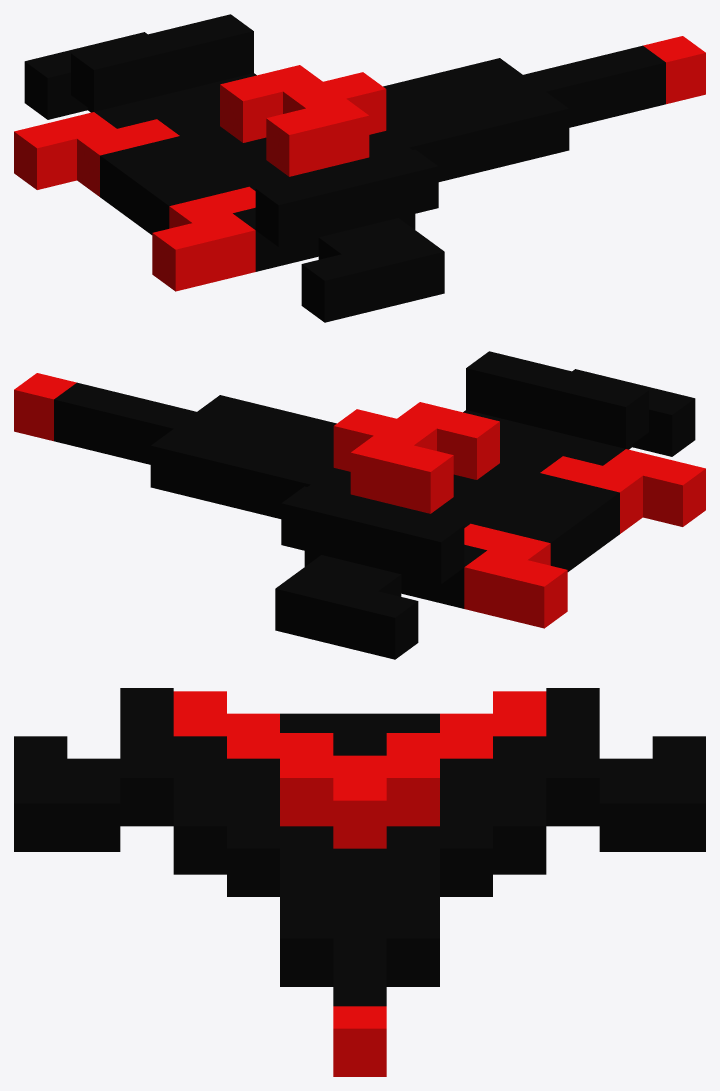
The model's file is Monster1.fbx.
3 views of the same model, one above another, from view 1: azimuth 30°, elevation 25°; view 2: azimuth 150°, elevation 25°; view 3: azimuth 270°, elevation 25° (orthographic). The views are drawn at different scales.
Visible parts, largest first — view 1: Box227, Box158, Box159, Box137, Box181, Box203, Box229, Box202, Box140, Box151, Box155, Box148 (+46 smaller); view 2: Box229, Box202, Box203, Box181, Box137, Box159, Box227, Box158, Box184, Box195, Box199, Box192 (+46 smaller); view 3: Box140, Box184, Box133, Box177, Box226, Box228, Box146, Box147, Box149, Box190, Box191, Box193 (+58 smaller).
Boxes of the visible parts, x1=… form: Box227: x1=266, y1=108, x2=329, y2=176; Box158: x1=301, y1=254, x2=364, y2=322; Box159: x1=152, y1=223, x2=215, y2=291; Box137: x1=255, y1=178, x2=318, y2=246; Box181: x1=71, y1=43, x2=133, y2=111; Box203: x1=14, y1=122, x2=76, y2=189; Box229: x1=220, y1=74, x2=282, y2=142; Box202: x1=24, y1=51, x2=87, y2=119; Box140: x1=375, y1=149, x2=438, y2=217; Box151: x1=426, y1=111, x2=489, y2=179; Box155: x1=193, y1=213, x2=255, y2=281; Box148: x1=466, y1=101, x2=529, y2=169; Box229: x1=390, y1=445, x2=453, y2=513; Box202: x1=355, y1=591, x2=418, y2=659; Box203: x1=504, y1=560, x2=567, y2=628; Box181: x1=401, y1=515, x2=464, y2=583; Box137: x1=586, y1=380, x2=648, y2=448; Box159: x1=643, y1=459, x2=705, y2=526; Box227: x1=437, y1=411, x2=499, y2=479; Box158: x1=632, y1=388, x2=695, y2=456; Box184: x1=281, y1=486, x2=344, y2=554; Box195: x1=230, y1=448, x2=293, y2=516; Box199: x1=464, y1=550, x2=526, y2=618; Box192: x1=190, y1=438, x2=253, y2=506; Box140: x1=120, y1=755, x2=173, y2=826; Box184: x1=546, y1=755, x2=599, y2=826; Box133: x1=173, y1=803, x2=226, y2=874; Box177: x1=493, y1=803, x2=546, y2=874; Box226: x1=280, y1=755, x2=333, y2=826; Box228: x1=386, y1=755, x2=439, y2=826; Box146: x1=67, y1=781, x2=120, y2=851; Box147: x1=14, y1=781, x2=67, y2=851; Box149: x1=280, y1=916, x2=333, y2=986; Box190: x1=599, y1=781, x2=652, y2=851; Box191: x1=652, y1=781, x2=705, y2=851; Box193: x1=386, y1=916, x2=439, y2=986.
Size of the model in its own units: 381 by 50.8 by 330.
